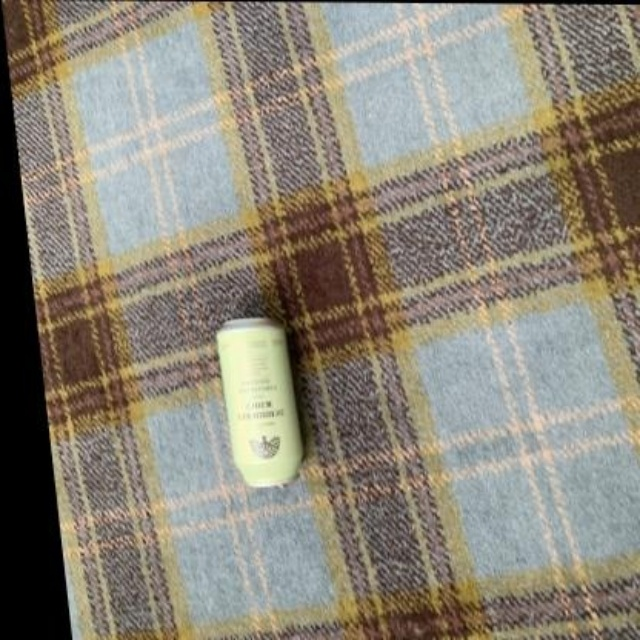trash: (217, 318, 302, 486)
